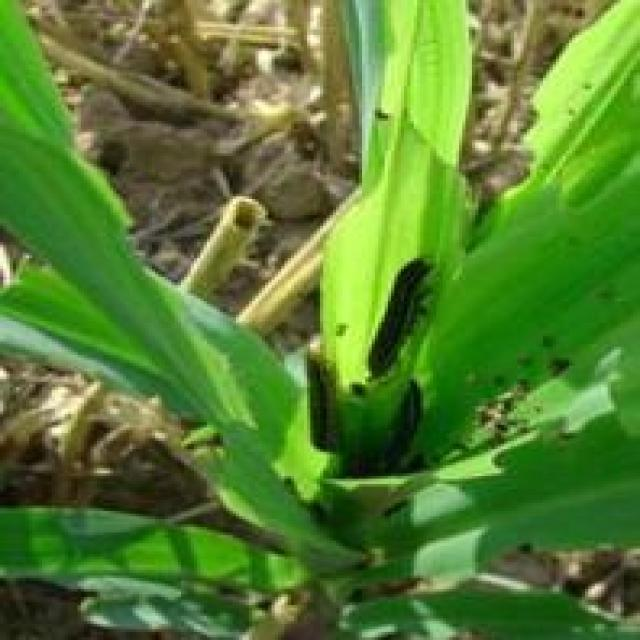army worm: (365, 247, 426, 384), (297, 345, 352, 458), (384, 376, 439, 481)
